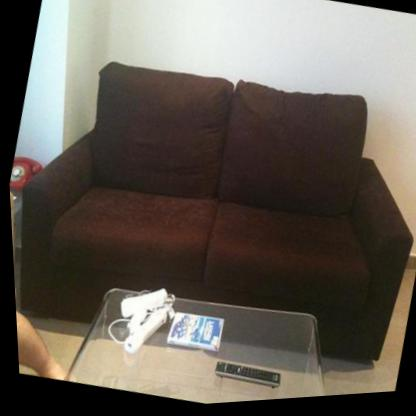Sofa: (2, 31, 416, 391)
